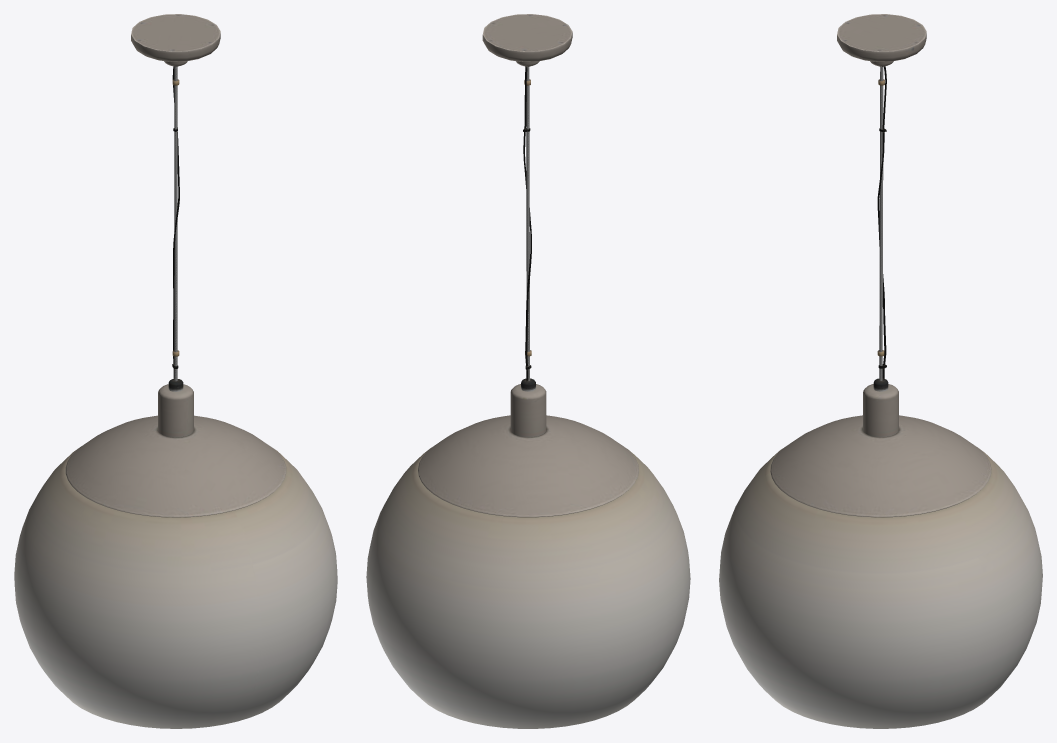
The model's file is modern_ceiling_lamp_01.glb.
The picture shows the model from 3 angles, left to right: view 1: azimuth 30°, elevation 25°; view 2: azimuth 150°, elevation 25°; view 3: azimuth 270°, elevation 25°; orthographic projection.
Visible parts, largest first — view 1: modern_ceiling_lamp_01; view 2: modern_ceiling_lamp_01; view 3: modern_ceiling_lamp_01.
Boxes of the visible parts, box(x1,y1,x2,y2) form: modern_ceiling_lamp_01: box(14, 14, 337, 728); modern_ceiling_lamp_01: box(366, 14, 690, 728); modern_ceiling_lamp_01: box(719, 14, 1042, 728).
Size of the model in its own units: 0.4316 by 0.9516 by 0.4317.
3 materials, 3 textured.
